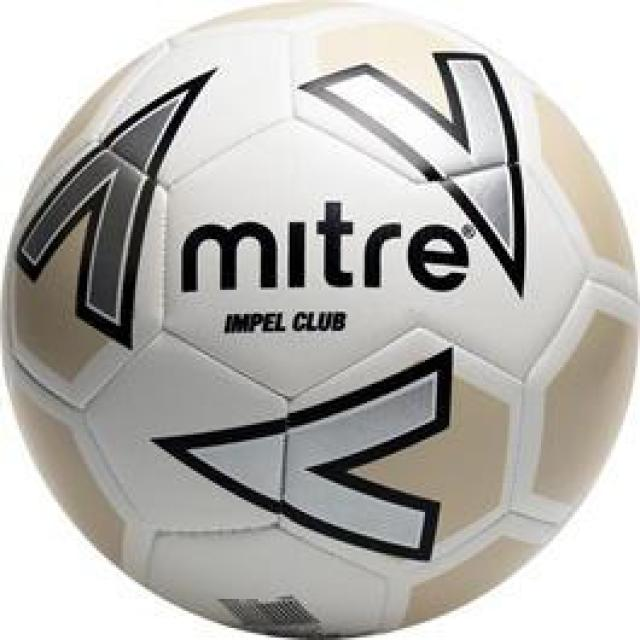ball: (3, 0, 632, 640)
